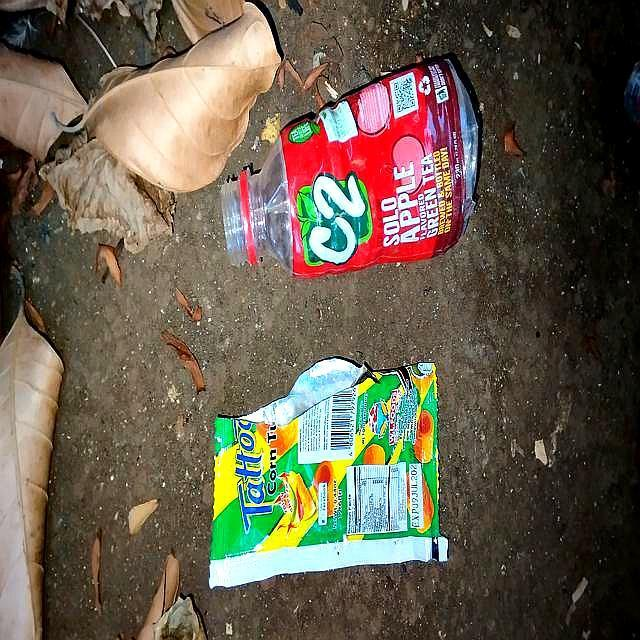Non-biodegradable: (223, 56, 483, 281), (212, 358, 451, 582)
